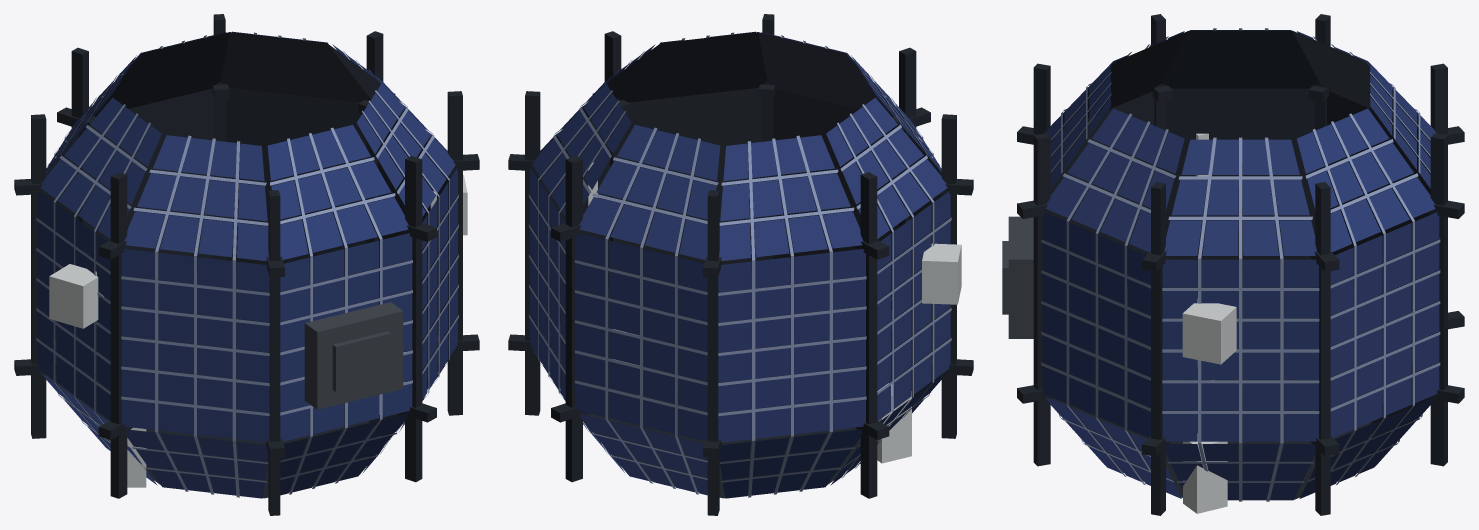
Rendered from BHASKARA-I.glb.
The picture shows the model from 3 angles, left to right: view 1: azimuth 30°, elevation 25°; view 2: azimuth 150°, elevation 25°; view 3: azimuth 270°, elevation 25°; orthographic projection. The views are drawn at different scales.
Parts seen in each view (by area): view 1: BHASKARA_CONSOLIDATED_SOLAR_CELLS, BHASKARA_MAIN_STRUCTURAL_BODY, BHASKARA_MAIN_STRUCTURAL_FRAME, BHASKARA_CONSOLIDATED_SOLAR_GRID, BHASKARA_CENTRAL_PAYLOAD_BAY, BHASKARA_EXTERNAL_HARDWARE; view 2: BHASKARA_CONSOLIDATED_SOLAR_CELLS, BHASKARA_MAIN_STRUCTURAL_BODY, BHASKARA_MAIN_STRUCTURAL_FRAME, BHASKARA_CONSOLIDATED_SOLAR_GRID, BHASKARA_EXTERNAL_HARDWARE; view 3: BHASKARA_CONSOLIDATED_SOLAR_CELLS, BHASKARA_MAIN_STRUCTURAL_BODY, BHASKARA_MAIN_STRUCTURAL_FRAME, BHASKARA_CONSOLIDATED_SOLAR_GRID, BHASKARA_EXTERNAL_HARDWARE, BHASKARA_CENTRAL_PAYLOAD_BAY.
Boxes of the visible parts, x1,y1,x2,y2 form: BHASKARA_CONSOLIDATED_SOLAR_CELLS: (37,31,457,498); BHASKARA_MAIN_STRUCTURAL_BODY: (46,32,448,498); BHASKARA_MAIN_STRUCTURAL_FRAME: (14,14,479,515); BHASKARA_CONSOLIDATED_SOLAR_GRID: (36,32,458,497); BHASKARA_CENTRAL_PAYLOAD_BAY: (304,302,403,409); BHASKARA_EXTERNAL_HARDWARE: (49,175,467,487); BHASKARA_CONSOLIDATED_SOLAR_CELLS: (530,31,950,498); BHASKARA_MAIN_STRUCTURAL_BODY: (539,32,941,498); BHASKARA_MAIN_STRUCTURAL_FRAME: (508,14,973,515); BHASKARA_CONSOLIDATED_SOLAR_GRID: (529,32,951,497); BHASKARA_EXTERNAL_HARDWARE: (588,162,961,463); BHASKARA_CONSOLIDATED_SOLAR_CELLS: (1042,30,1439,500); BHASKARA_MAIN_STRUCTURAL_BODY: (1050,30,1430,499); BHASKARA_MAIN_STRUCTURAL_FRAME: (1017,14,1464,515); BHASKARA_CONSOLIDATED_SOLAR_GRID: (1041,28,1440,501); BHASKARA_EXTERNAL_HARDWARE: (1182,133,1236,513); BHASKARA_CENTRAL_PAYLOAD_BAY: (1002,216,1033,338).
Size of the model in its own units: 3.46 by 2.82 by 3.27.
